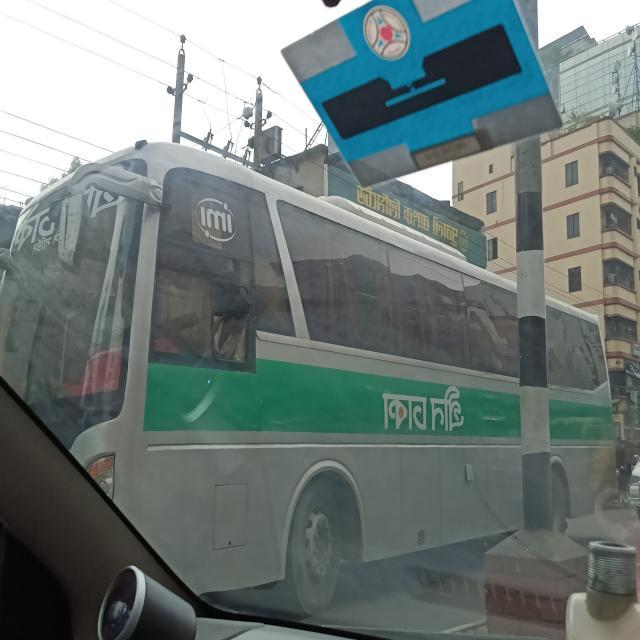Bus: (1, 125, 631, 630)
